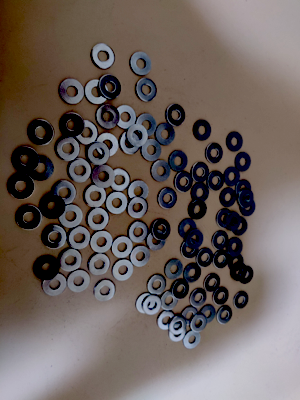circle: (58, 77, 86, 107), (27, 118, 55, 146), (13, 146, 40, 174), (28, 155, 55, 182), (60, 112, 86, 139), (8, 174, 35, 200), (16, 205, 42, 231), (85, 79, 110, 106), (40, 195, 66, 220), (33, 255, 59, 280), (56, 137, 81, 162), (74, 121, 99, 146), (92, 43, 116, 69), (98, 74, 122, 100), (41, 226, 68, 249), (58, 248, 82, 273), (68, 159, 92, 184), (53, 181, 76, 207), (42, 273, 68, 296), (59, 205, 83, 229), (135, 78, 158, 103), (91, 165, 116, 188), (130, 50, 152, 76), (88, 253, 111, 277), (87, 208, 110, 232), (126, 124, 149, 148), (119, 131, 142, 155), (96, 133, 119, 157), (66, 227, 91, 249), (84, 185, 106, 210), (67, 270, 90, 293), (90, 231, 113, 254), (135, 114, 158, 137), (108, 169, 131, 192), (87, 142, 110, 165), (115, 105, 137, 129), (140, 139, 162, 163), (109, 237, 134, 258), (97, 106, 120, 128), (127, 196, 149, 219), (128, 221, 151, 243), (129, 245, 152, 267), (94, 280, 116, 302), (107, 192, 128, 215), (127, 180, 150, 201), (113, 260, 135, 281), (155, 124, 176, 146), (174, 170, 194, 193), (193, 118, 213, 141), (166, 105, 186, 127), (159, 187, 178, 210), (206, 142, 225, 165), (169, 151, 189, 172), (147, 229, 167, 250), (135, 293, 156, 313), (157, 311, 178, 331), (226, 131, 245, 153), (215, 208, 234, 230), (153, 218, 171, 241), (188, 200, 208, 220), (178, 219, 198, 239), (185, 229, 204, 250), (148, 275, 167, 296), (143, 294, 162, 315), (165, 258, 183, 280), (153, 161, 171, 182), (223, 167, 241, 188), (169, 315, 187, 336), (219, 187, 237, 208), (181, 306, 198, 328), (168, 323, 187, 342), (161, 291, 179, 311), (184, 263, 202, 283), (211, 231, 229, 251), (199, 305, 217, 325), (204, 273, 222, 293), (235, 152, 252, 173), (235, 179, 252, 200), (184, 331, 202, 350), (226, 238, 244, 257), (231, 217, 249, 236), (208, 172, 225, 192), (192, 183, 209, 203), (197, 248, 214, 268), (213, 286, 230, 306), (225, 211, 242, 231), (237, 189, 254, 209), (190, 288, 207, 307), (228, 253, 245, 272), (240, 198, 257, 217), (231, 263, 247, 283), (213, 251, 230, 269), (173, 280, 189, 299), (191, 315, 207, 333), (238, 266, 254, 284), (234, 291, 249, 310), (218, 306, 233, 324)
